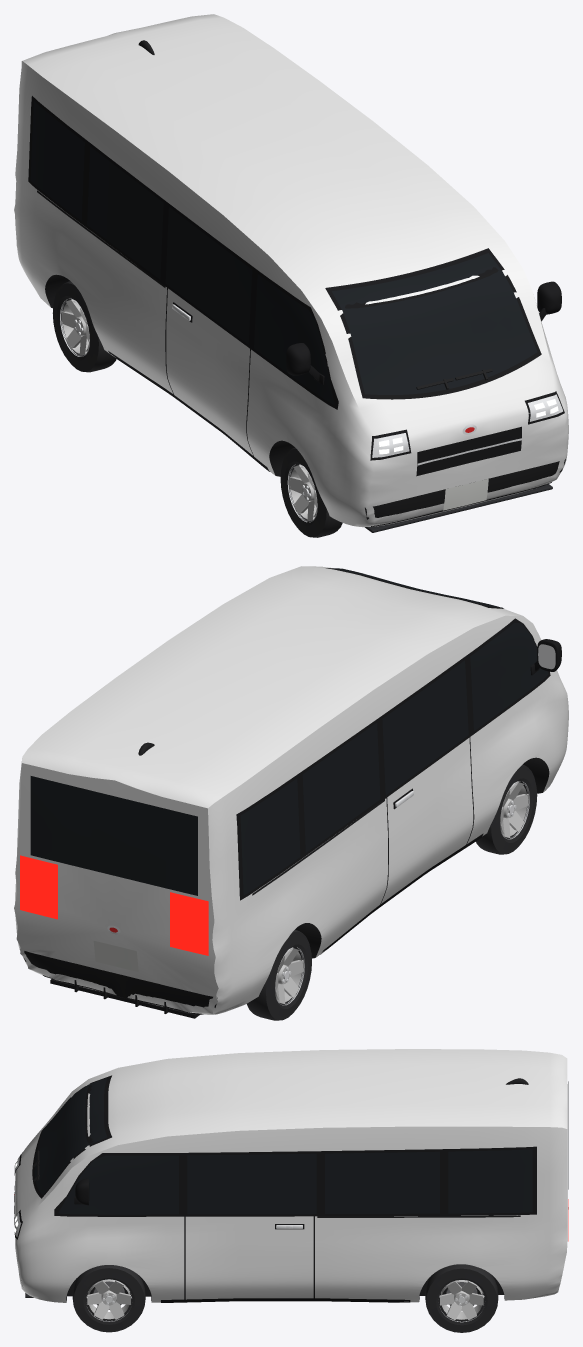
Rendered from tr_van.glb.
3 views of the same model, one above another, from view 1: azimuth 30°, elevation 25°; view 2: azimuth 150°, elevation 25°; view 3: azimuth 270°, elevation 25° (orthographic). The views are drawn at different scales.
Visible parts, largest first — view 1: Body, Wheel_RR, Wheel_FR; view 2: Body, Wheel_RR, Wheel_FR; view 3: Body, Wheel_RL, Wheel_FL.
Part boxes in pixels (x1,y1,x2,y2): Body: (14, 14, 568, 532); Wheel_RR: (52, 281, 116, 372); Wheel_FR: (280, 447, 342, 537); Body: (14, 566, 568, 1018); Wheel_RR: (247, 929, 311, 1020); Wheel_FR: (476, 764, 537, 854); Body: (14, 1049, 568, 1302); Wheel_RL: (425, 1264, 498, 1332); Wheel_FL: (72, 1265, 145, 1332).
Size of the model in its own units: 2.08 by 2.02 by 4.72.
